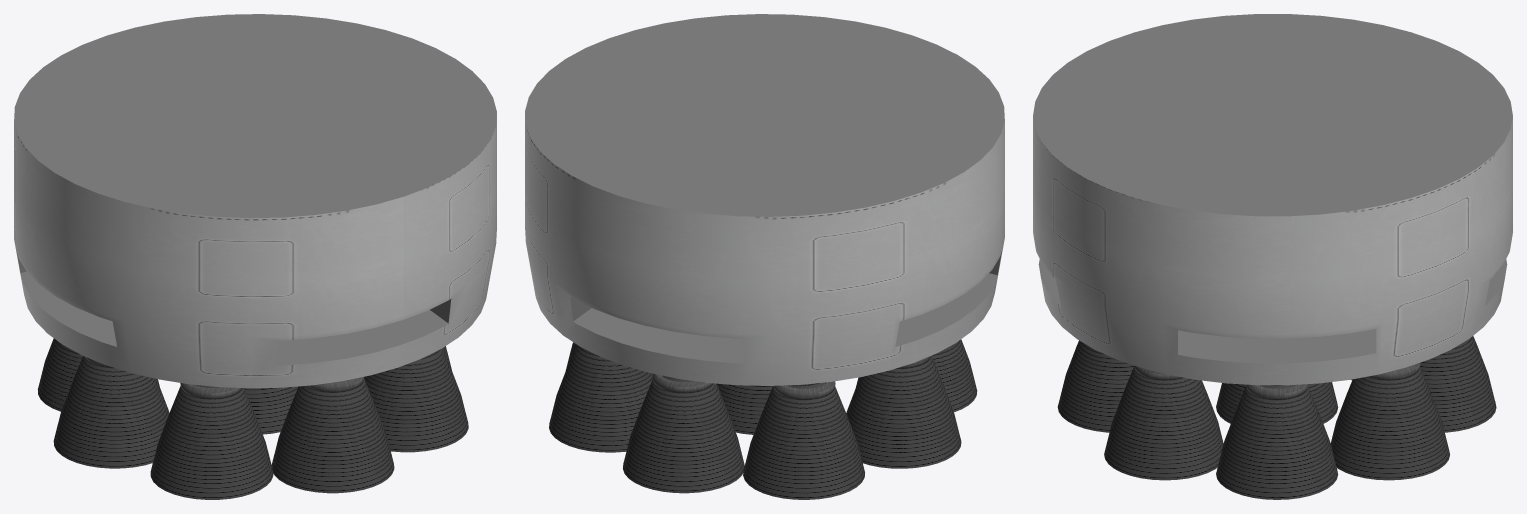
The model's file is DEC_Merlin_Cluster.fbx.
3 renders of one model, left to right at view 1: azimuth 30°, elevation 25°; view 2: azimuth 150°, elevation 25°; view 3: azimuth 270°, elevation 25°, orthographic.
Parts seen in each view (by area): view 1: Shell, Nozzle2.001, Nozzle2.002, Nozzle2, Nozzle2.003, Nozzle2.006, Nozzle1, Ring2.001; view 2: Shell, Nozzle2.006, Nozzle2.005, Nozzle2, Nozzle2.007, Nozzle2.001, Nozzle1, Ring2.006, Ring2.005; view 3: Shell, Nozzle2.004, Nozzle2.007, Nozzle2.003, Nozzle2.005, Nozzle2.002, Nozzle1, Ring2.004.
Boxes of the visible parts, bbox=[...] form: Shell: bbox=[14, 14, 496, 388]; Nozzle2.001: bbox=[150, 385, 273, 499]; Nozzle2.002: bbox=[271, 379, 394, 493]; Nozzle2: bbox=[53, 356, 169, 468]; Nozzle2.003: bbox=[364, 348, 468, 452]; Nozzle2.006: bbox=[37, 338, 159, 411]; Nozzle1: bbox=[244, 386, 298, 434]; Ring2.001: bbox=[180, 383, 241, 398]; Shell: bbox=[525, 14, 1004, 385]; Nozzle2.006: bbox=[743, 382, 864, 499]; Nozzle2.005: bbox=[623, 375, 744, 493]; Nozzle2: bbox=[846, 356, 961, 468]; Nozzle2.007: bbox=[549, 344, 652, 452]; Nozzle2.001: bbox=[856, 339, 977, 412]; Nozzle1: bbox=[717, 383, 772, 434]; Ring2.006: bbox=[773, 381, 835, 399]; Ring2.005: bbox=[652, 373, 712, 392]; Shell: bbox=[1033, 14, 1512, 385]; Nozzle2.004: bbox=[1216, 385, 1338, 499]; Nozzle2.007: bbox=[1330, 367, 1449, 480]; Nozzle2.003: bbox=[1104, 367, 1223, 480]; Nozzle2.005: bbox=[1420, 336, 1496, 432]; Nozzle2.002: bbox=[1057, 340, 1133, 432]; Nozzle1: bbox=[1216, 382, 1338, 423]; Ring2.004: bbox=[1246, 384, 1308, 399].
Size of what is drawn, in the model's own units: 393 by 265 by 394.
